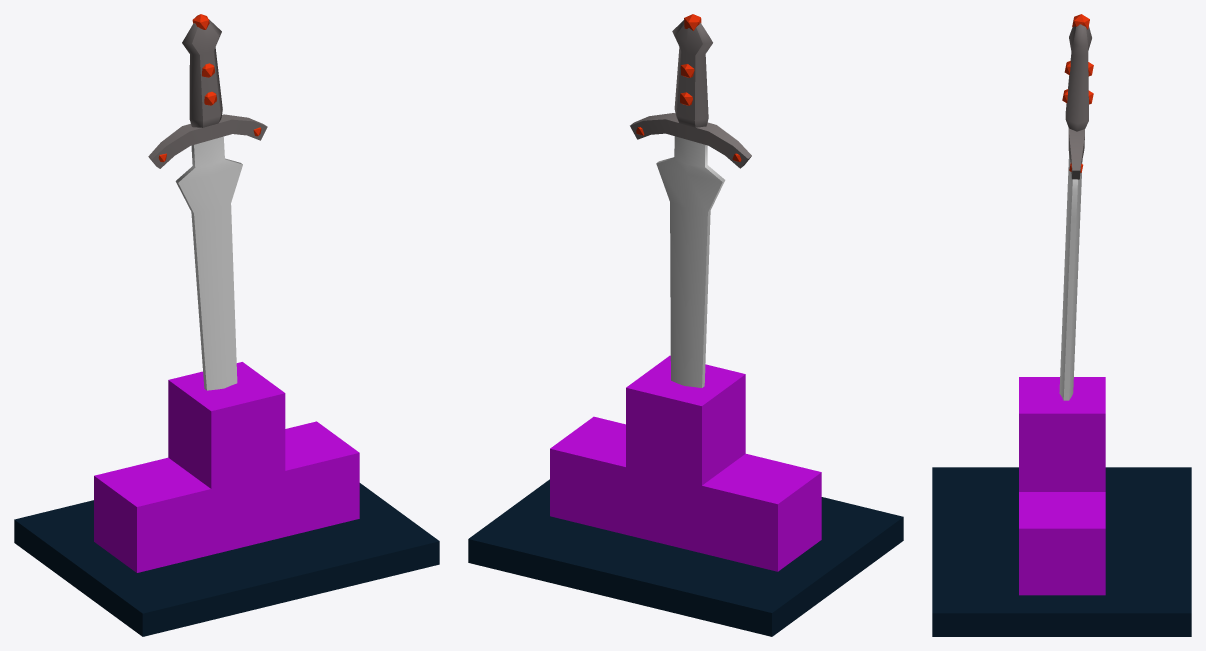
The model's file is basement-tetris-magical-sword.fbx.
3 views of the same model, side by side, from view 1: azimuth 30°, elevation 25°; view 2: azimuth 150°, elevation 25°; view 3: azimuth 270°, elevation 25° (orthographic). The views are drawn at different scales.
Visible parts, largest first — view 1: tetris_05, basement1, blade, handle, guard; view 2: tetris_05, basement1, blade, handle, guard; view 3: basement1, tetris_05, blade, handle, guard.
Part boxes in pixels (x1,y1,x2,y2): tetris_05: [94, 362, 359, 572]; basement1: [14, 483, 439, 636]; blade: [175, 136, 242, 390]; handle: [182, 19, 222, 127]; guard: [148, 114, 267, 168]; tetris_05: [550, 355, 821, 571]; basement1: [468, 479, 903, 636]; blade: [656, 136, 725, 387]; handle: [672, 20, 712, 127]; guard: [630, 113, 751, 168]; basement1: [932, 467, 1191, 636]; tetris_05: [1019, 377, 1105, 595]; blade: [1059, 153, 1082, 400]; handle: [1065, 24, 1091, 131]; guard: [1068, 128, 1084, 179].
Bounding box in the file's own units: 2 × 3.45 × 1.5.
